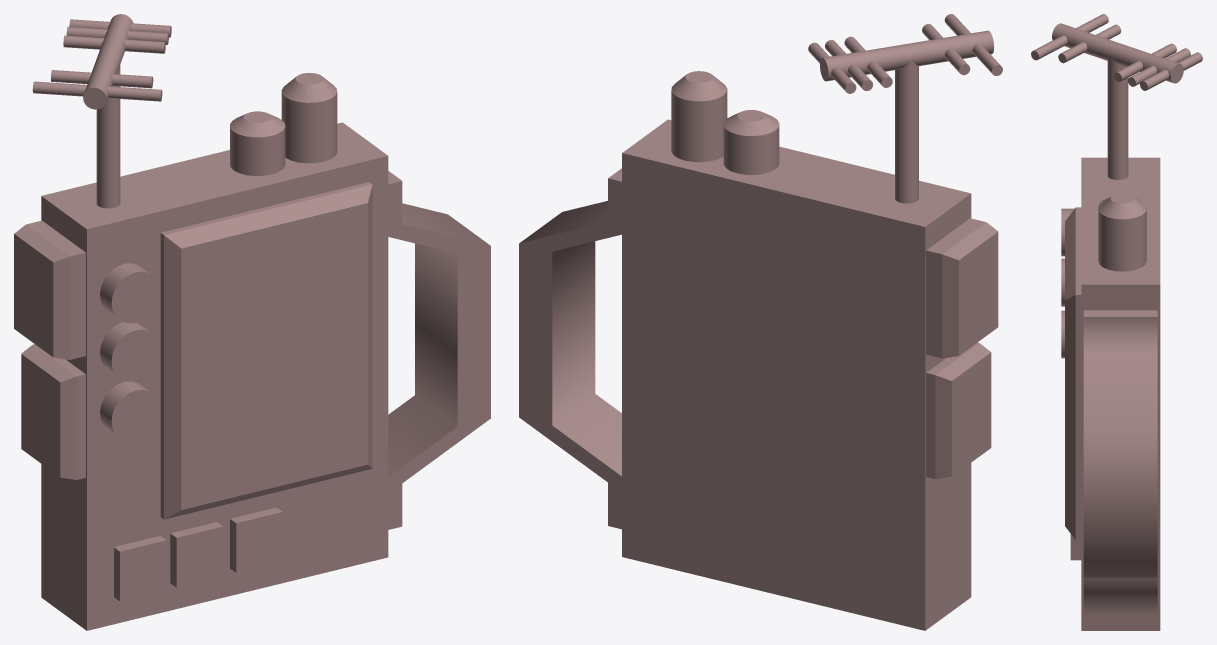
File: dyn_gadget_motiondetectorremoteblockout.fbx
3 views of the same model, side by side, from view 1: azimuth 30°, elevation 25°; view 2: azimuth 150°, elevation 25°; view 3: azimuth 270°, elevation 25° (orthographic). The views are drawn at different scales.
Visible parts, largest first — view 1: pCube18, pCube19, polySurface5, pCube20, pCube21, pCylinder33, pCylinder34, pCube22, pCube23, pCube24, pCylinder32, pCylinder30 (+8 smaller); view 2: pCube18, polySurface5, pCube20, pCube21, pCylinder33, pCylinder23, pCylinder34, pCylinder29, pCylinder27; view 3: polySurface5, pCube18, pCube19, pCylinder33, pCylinder29, pCylinder23, pCylinder27, pCylinder28, pCylinder25, pCylinder26, pCylinder24, pCube24 (+1 smaller).
Part boxes in pixels (bbox=[...]): pCube18: bbox=[41, 122, 388, 630]; pCube19: bbox=[160, 182, 372, 519]; polySurface5: bbox=[388, 171, 490, 529]; pCube20: bbox=[14, 220, 85, 359]; pCube21: bbox=[21, 344, 85, 479]; pCylinder33: bbox=[281, 73, 337, 163]; pCylinder34: bbox=[230, 111, 285, 175]; pCube22: bbox=[114, 536, 166, 601]; pCube23: bbox=[170, 522, 222, 587]; pCube24: bbox=[230, 507, 282, 572]; pCylinder32: bbox=[100, 381, 159, 441]; pCylinder30: bbox=[100, 263, 159, 323]; pCube18: bbox=[622, 119, 971, 630]; polySurface5: bbox=[519, 168, 621, 529]; pCube20: bbox=[926, 218, 998, 358]; pCube21: bbox=[926, 342, 991, 479]; pCylinder33: bbox=[671, 71, 727, 162]; pCylinder23: bbox=[820, 30, 994, 81]; pCylinder34: bbox=[723, 110, 779, 174]; pCylinder29: bbox=[895, 61, 918, 203]; pCylinder27: bbox=[944, 14, 1002, 75]; polySurface5: bbox=[1083, 310, 1157, 614]; pCube18: bbox=[1081, 157, 1160, 630]; pCube19: bbox=[1065, 207, 1081, 540]; pCylinder33: bbox=[1098, 193, 1146, 271]; pCylinder29: bbox=[1107, 57, 1128, 179]; pCylinder23: bbox=[1052, 23, 1183, 83]; pCylinder27: bbox=[1031, 14, 1108, 60]; pCylinder28: bbox=[1140, 52, 1202, 90]; pCylinder25: bbox=[1058, 24, 1121, 63]; pCylinder26: bbox=[1114, 43, 1176, 81]; pCylinder24: bbox=[1128, 48, 1190, 86]; pCube24: bbox=[1070, 534, 1081, 560].
Size of the model in its own units: 20.14 by 23.8 by 7.76.
